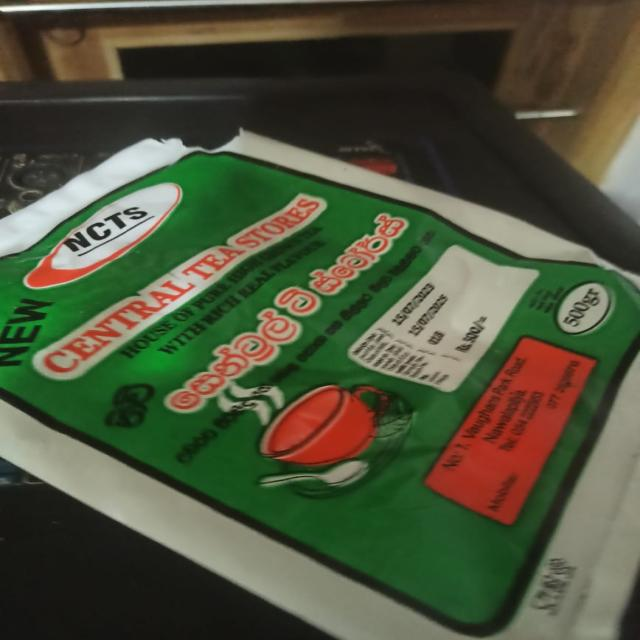Central Tea: (0, 192, 640, 564)
